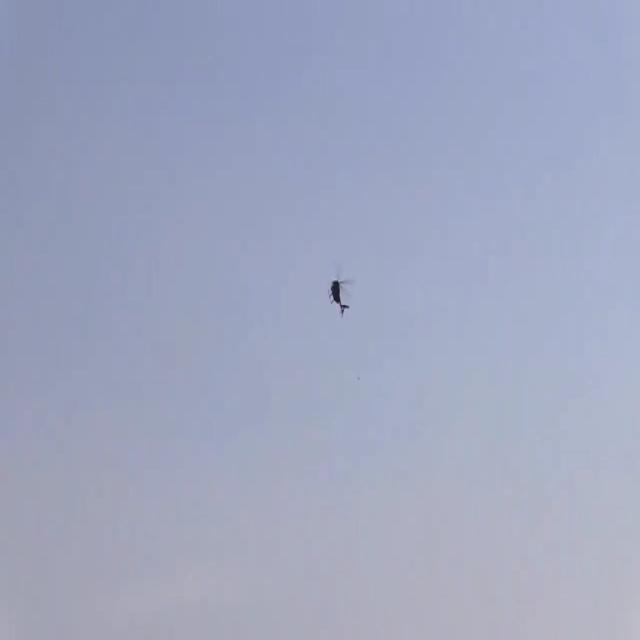Helicopter: (306, 245, 366, 327)
